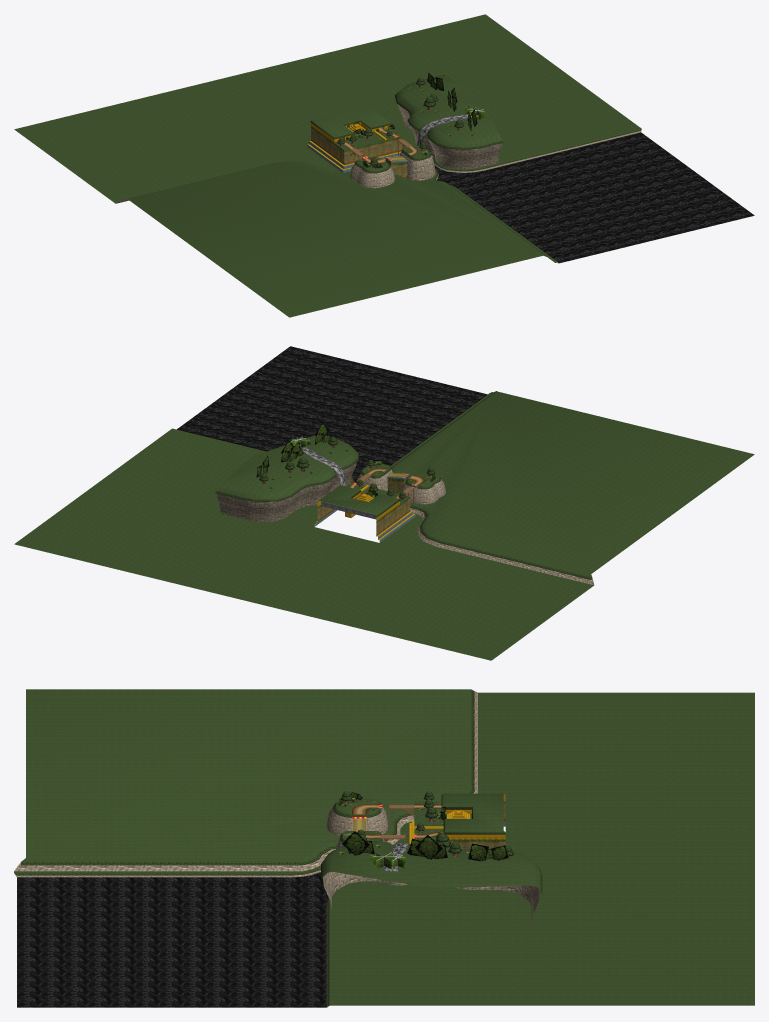
3 renders of one model, top to bottom at view 1: azimuth 30°, elevation 25°; view 2: azimuth 150°, elevation 25°; view 3: azimuth 270°, elevation 25°, orthographic. The views are drawn at different scales.
Visible parts, largest first — view 1: kusa, ef_sea.001, iwa.002, leaf_e, renga_k, leaf.009; view 2: kusa, ef_sea.001, iwa.002, leaf_e, renga_k, leaf.009; view 3: kusa, ef_sea.001, iwa.002, leaf_e, leaf.009, bush.002.
Boxes of the visible parts, box(x1,y1,x2,y2) form: kusa: box(14, 14, 641, 317); ef_sea.001: box(432, 132, 754, 263); iwa.002: box(117, 104, 641, 262); leaf_e: box(310, 77, 641, 261); renga_k: box(311, 126, 407, 178); leaf.009: box(346, 73, 477, 168); kusa: box(14, 391, 754, 660); ef_sea.001: box(177, 346, 487, 483); iwa.002: box(217, 462, 594, 584); leaf_e: box(215, 391, 592, 579); renga_k: box(317, 476, 410, 535); leaf.009: box(256, 422, 435, 498); kusa: box(14, 689, 754, 1005); ef_sea.001: box(17, 872, 328, 1007); iwa.002: box(14, 690, 540, 1007); leaf_e: box(14, 689, 542, 1005); leaf.009: box(338, 792, 508, 861); bush.002: box(339, 798, 514, 869).
Bounding box in the file's own units: 3130 × 390 × 3130.
24 materials, 24 textured.
